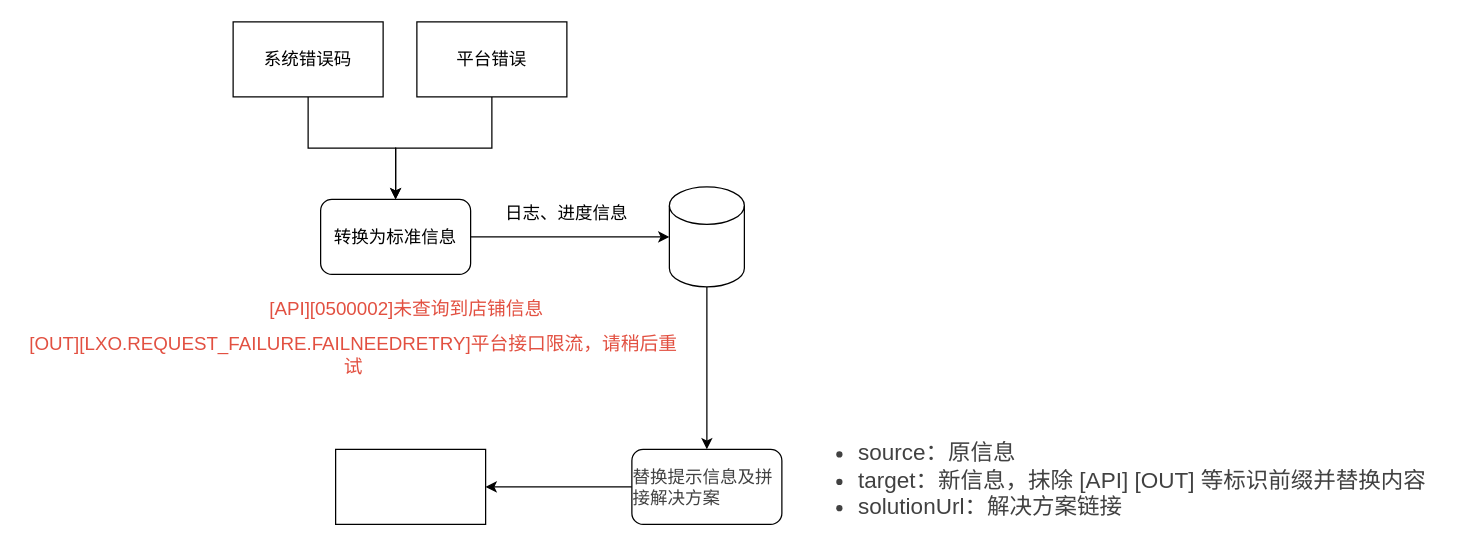
The diagram is 1460 pixels wide and 550 high, and some of its shapes have lost their labels. The centre of each missing label's shape, as x and y in pixels:
"前端查询展示" belongs at [410,486].
"数据库" belongs at [706,236].
